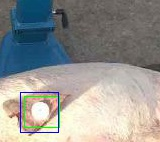text: (24, 96, 59, 127)
